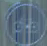bike lane: (3, 6, 45, 45)
